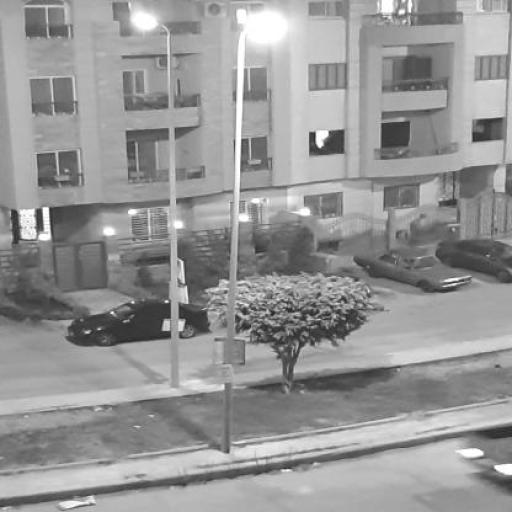street light: (218, 12, 289, 454), (132, 14, 180, 386)
